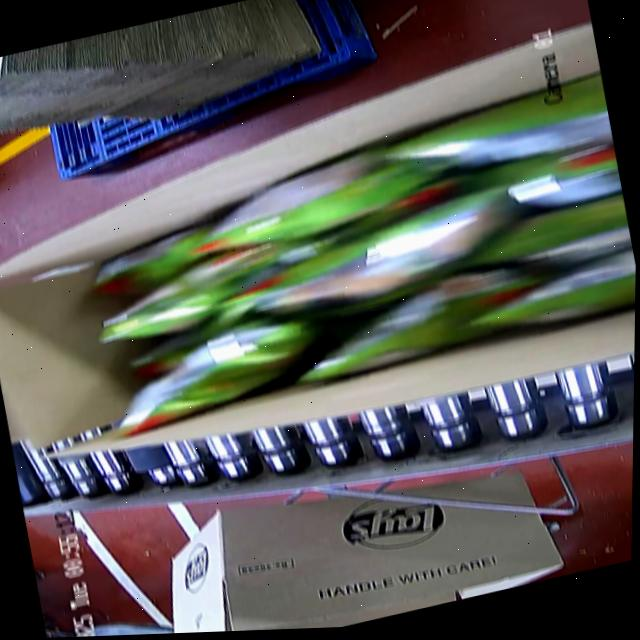YOGURT_HERB: (18, 70, 639, 474)
